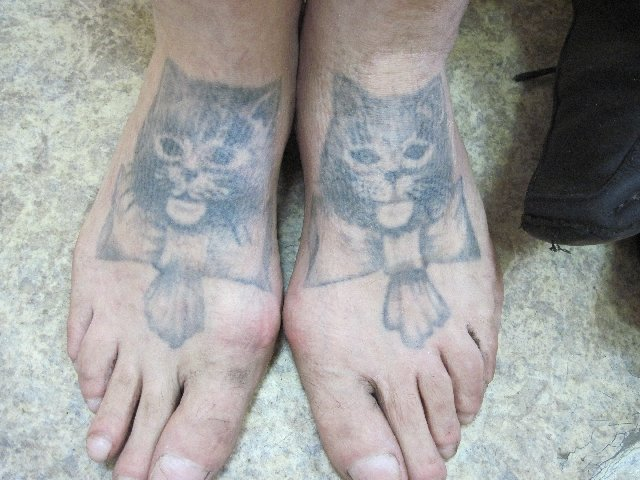tatu8_kot: (292, 59, 486, 348), (94, 60, 276, 351)
